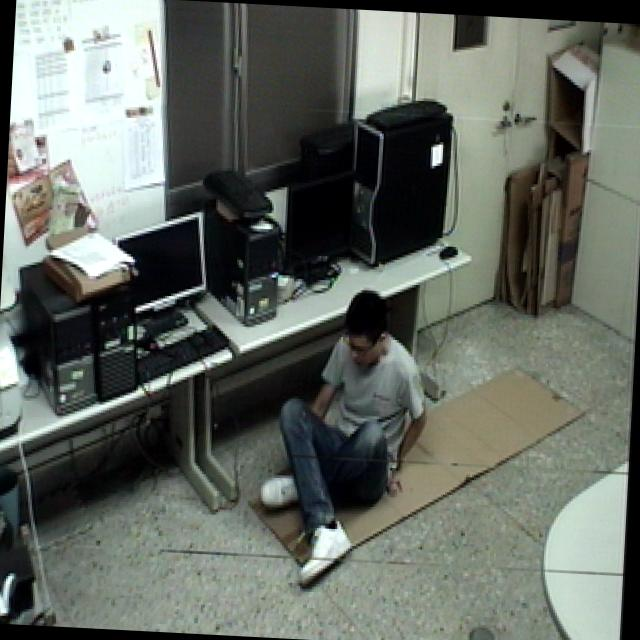sit: (250, 281, 446, 598)
